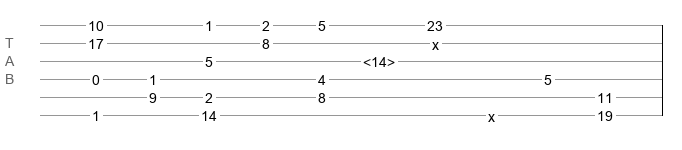0: (92, 72, 100, 82)
1: (92, 108, 100, 118), (149, 72, 157, 82), (205, 18, 213, 28)
10: (88, 18, 104, 28)
11: (597, 90, 613, 100)
14: (201, 108, 217, 118)
17: (88, 36, 104, 46)
19: (597, 108, 613, 118)
2: (205, 90, 213, 100), (262, 18, 270, 28)
23: (427, 18, 443, 28)
4: (318, 72, 326, 82)
5: (205, 54, 213, 64), (318, 18, 326, 28), (544, 72, 552, 82)
8: (262, 36, 270, 46), (318, 90, 326, 100)
9: (149, 90, 157, 100)
harmonic: (363, 54, 395, 64)
x: (432, 37, 439, 45), (488, 109, 495, 117)
